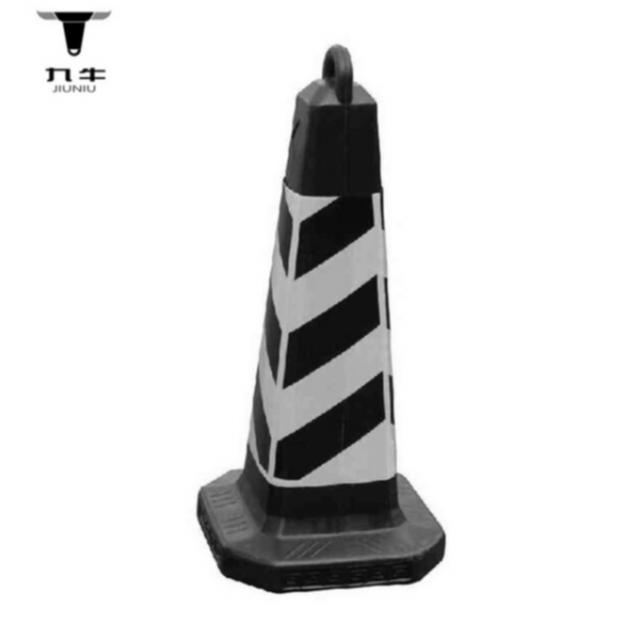reflective_cone: (190, 43, 452, 590)
